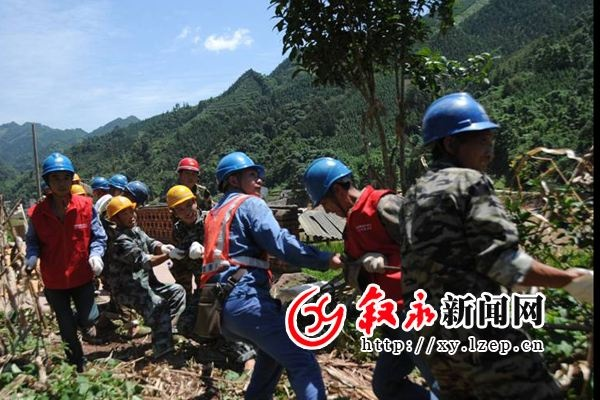blue: (418, 87, 495, 171), (302, 154, 353, 221), (214, 147, 262, 199), (39, 151, 76, 196), (124, 179, 149, 207), (88, 176, 107, 198), (109, 174, 126, 196)
red: (173, 155, 199, 187)
yellow: (165, 182, 199, 225), (106, 195, 137, 230)
